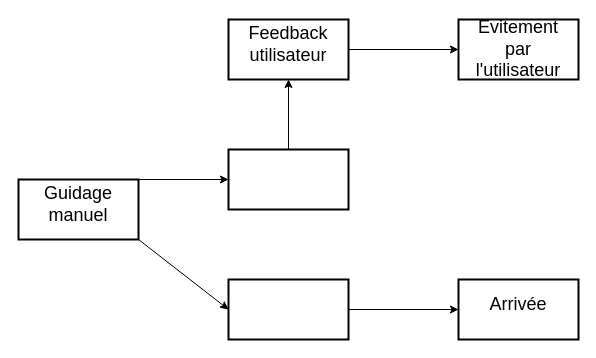
Some shapes in this 596 by 358 pixel diagram are drawn without their labels. The centre of each missing label's shape, as x and y in pixels:
"Obstacle" belongs at point 288,179.
"Pas d'obstacle" belongs at point 288,309.
